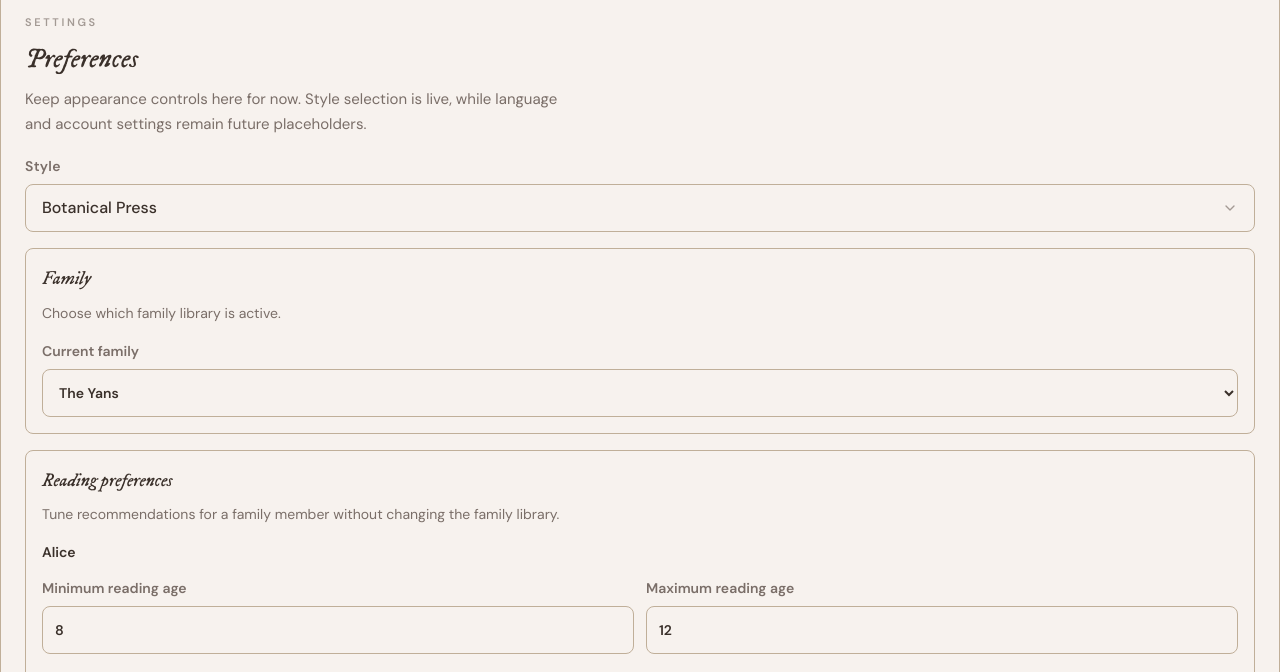
Test case: SettingsPage › switches families and creates a placeholder member
expect the text "Reading preferences" is shown: met, box [42, 469, 172, 492]
expect the number field showing "8" is shown: met, box [42, 606, 634, 654]
Select "Reading Club" in the dropdown labelled "Current family". click: point(640, 393)
box: [42, 369, 1238, 417]
(page scrolled)
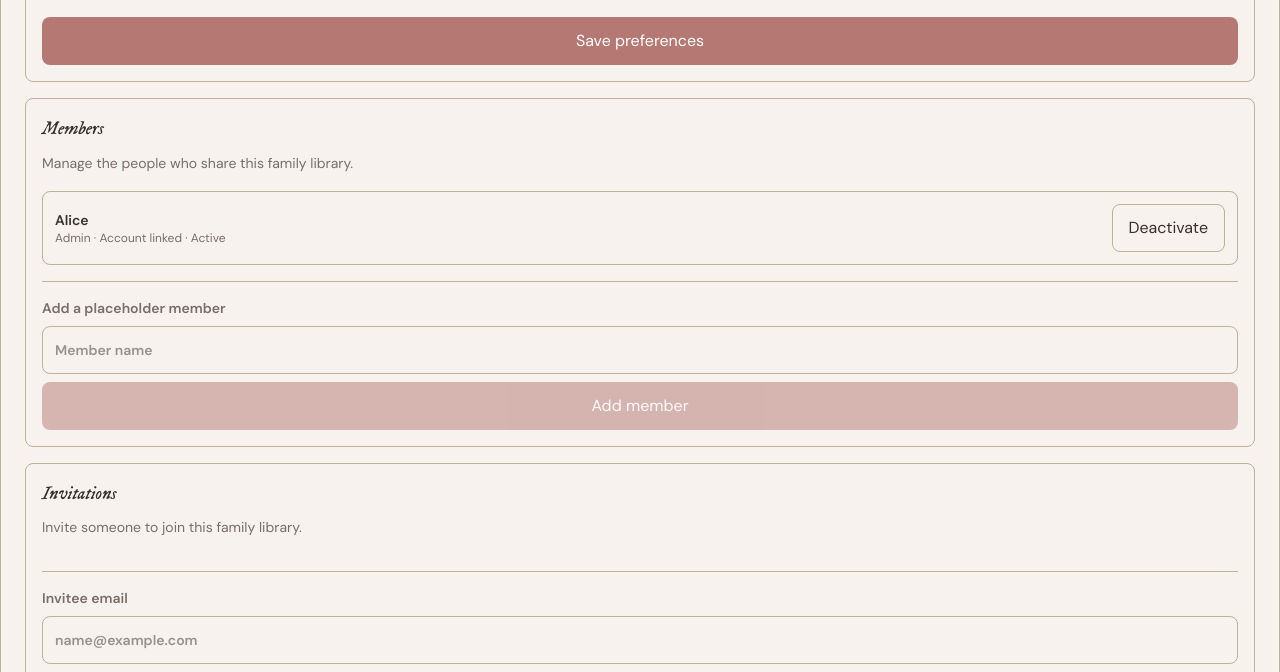
Type "Mia" into the field labelled "Add a placeholder member". click: point(640, 350)
box: [42, 326, 1238, 374]
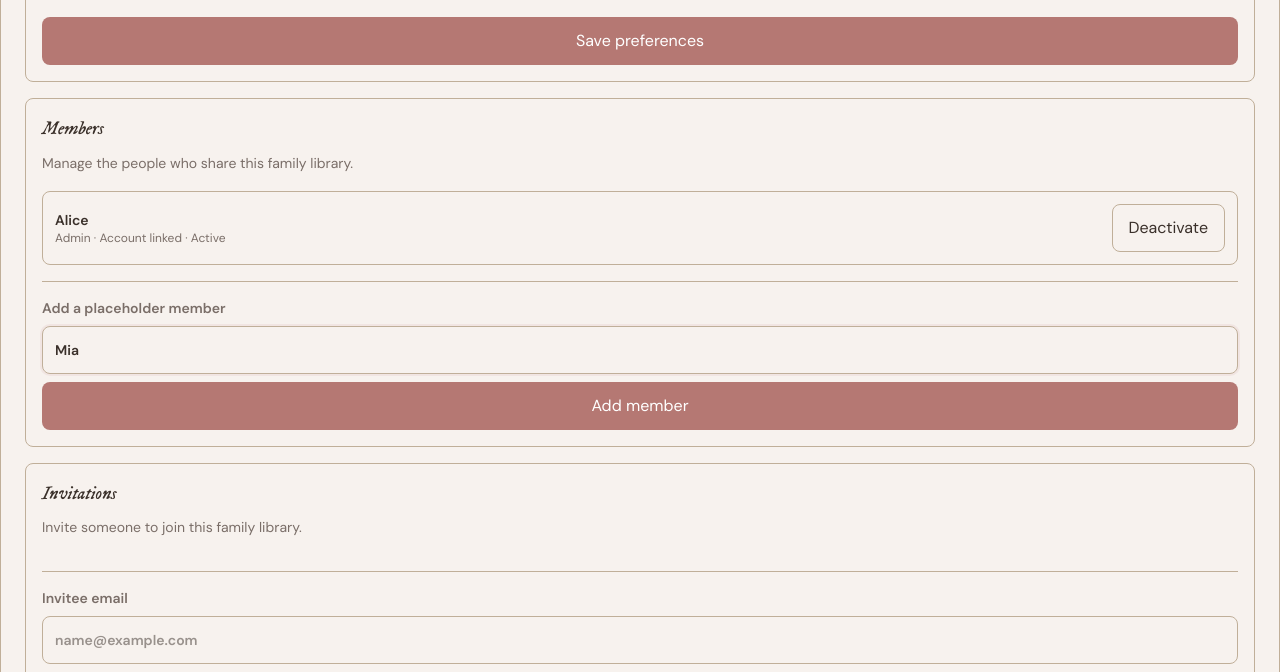
Click the button "Add member". click: point(640, 406)
box: [42, 382, 1238, 430]
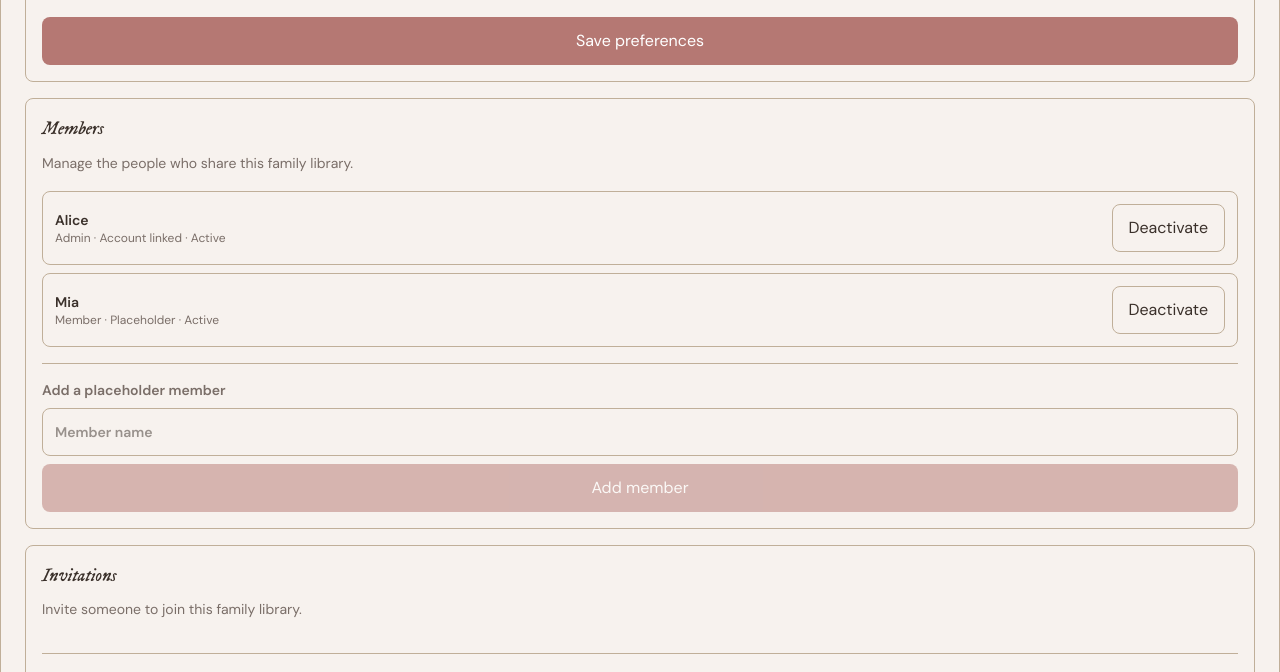
expect the text "Mia" is shown: met, box [55, 293, 79, 311]
